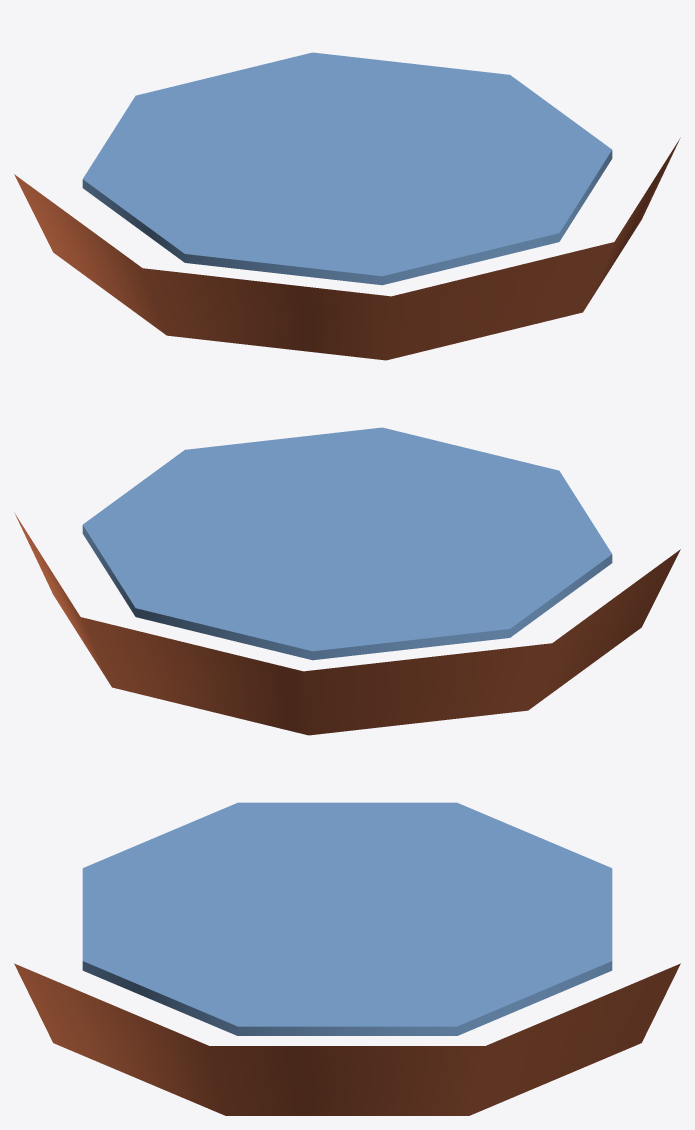
Rendered from terrarium_dish.glb.
3 renders of one model, top to bottom at view 1: azimuth 30°, elevation 25°; view 2: azimuth 150°, elevation 25°; view 3: azimuth 270°, elevation 25°, orthographic. The views are drawn at different scales.
Visible parts, largest first — view 1: terrarium_dish; view 2: terrarium_dish; view 3: terrarium_dish.
Part boxes in pixels (x1,y1,x2,y2): terrarium_dish: (14,52,680,360); terrarium_dish: (14,427,680,735); terrarium_dish: (14,802,680,1115).
Bounding box in the file's own units: 0.6282 × 0.09 × 0.6282.
Materials: 1 (1 with a texture image).
